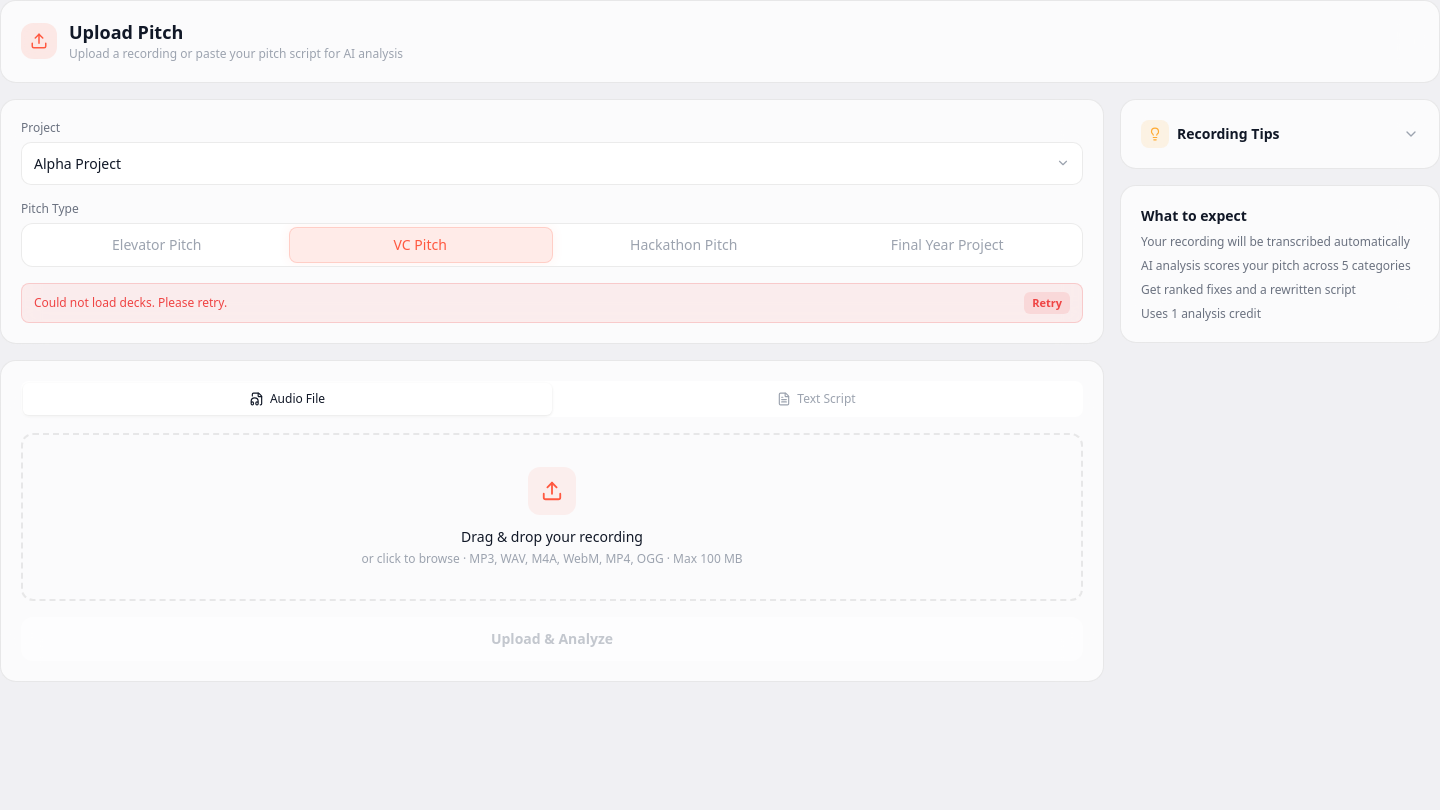
Test: UploadPage deck load error handling › shows a deck load error with retry and retries fetching decks
The width and height of the screenshot is (1440, 810).
Expected: the text "Could not load decks. Please retry." is shown, 34,295 -> 227,311
Click the button "Retry": (1047, 303) 1024,292 -> 1070,314
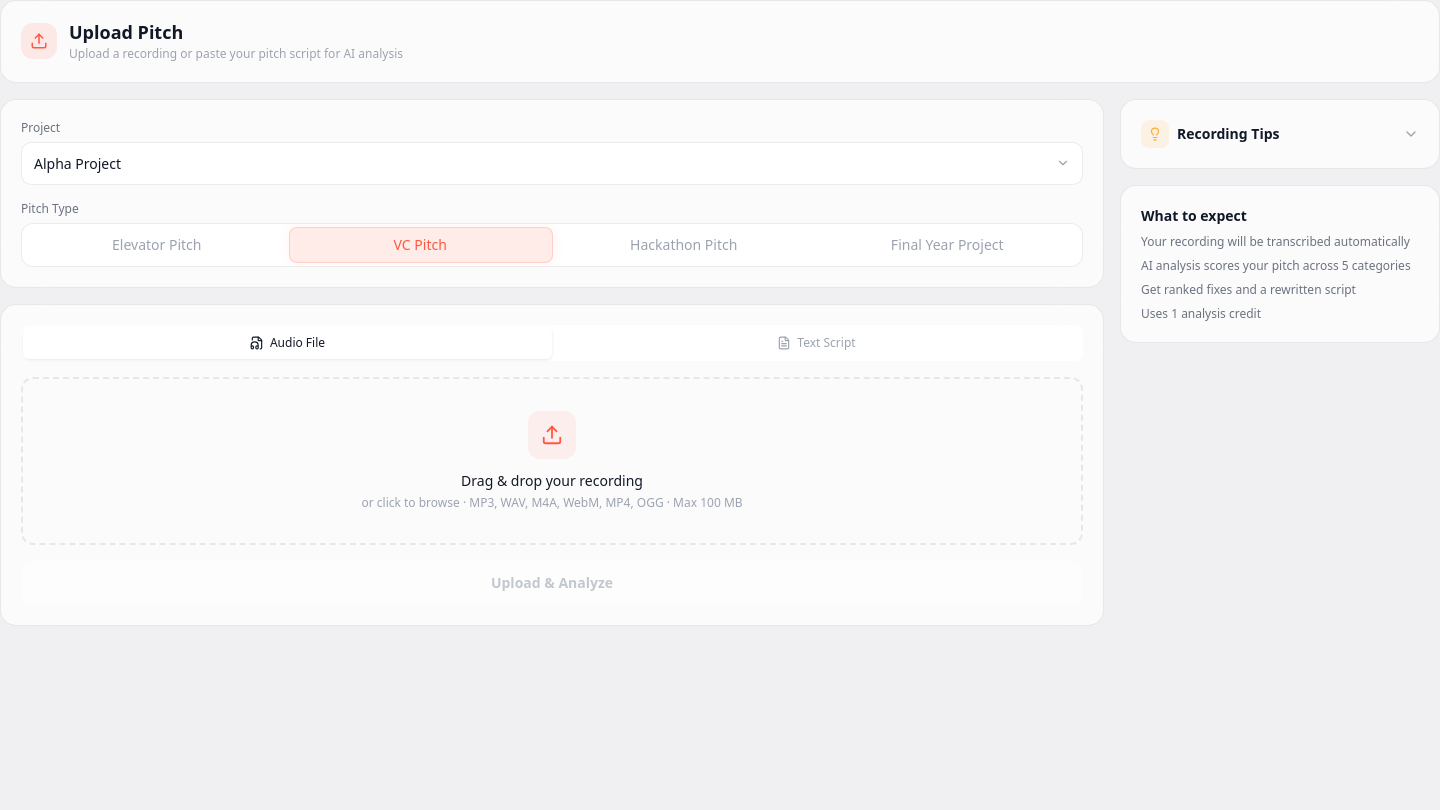
Expected: the text "Could not load decks. Please retry." is gone
